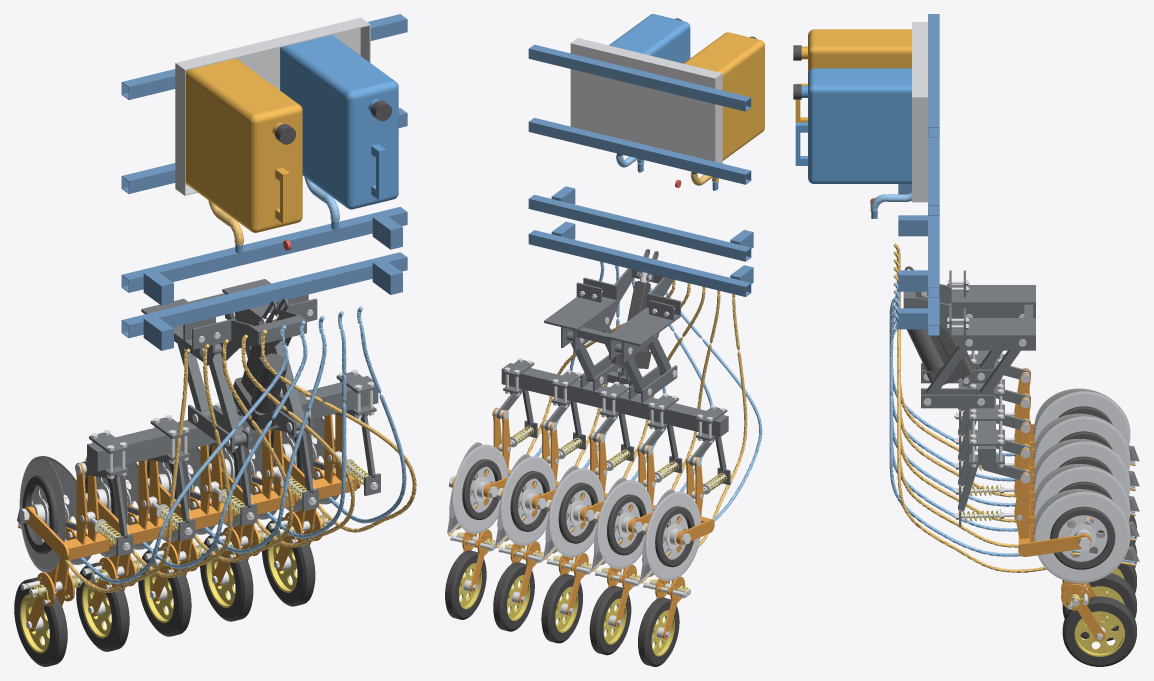
Rendered from raised.glb.
The picture shows the model from 3 angles, left to right: view 1: azimuth 30°, elevation 25°; view 2: azimuth 150°, elevation 25°; view 3: azimuth 270°, elevation 25°; orthographic projection. The views are drawn at different scales.
Visible parts, largest first — view 1: frame; view 2: frame; view 3: frame.
Boxes of the visible parts, bbox=[...] form: frame: bbox=[14, 14, 416, 666]; frame: bbox=[445, 14, 764, 666]; frame: bbox=[793, 14, 1139, 666].
Bounding box in the file's own units: 0.9876 × 2.06 × 1.17.
